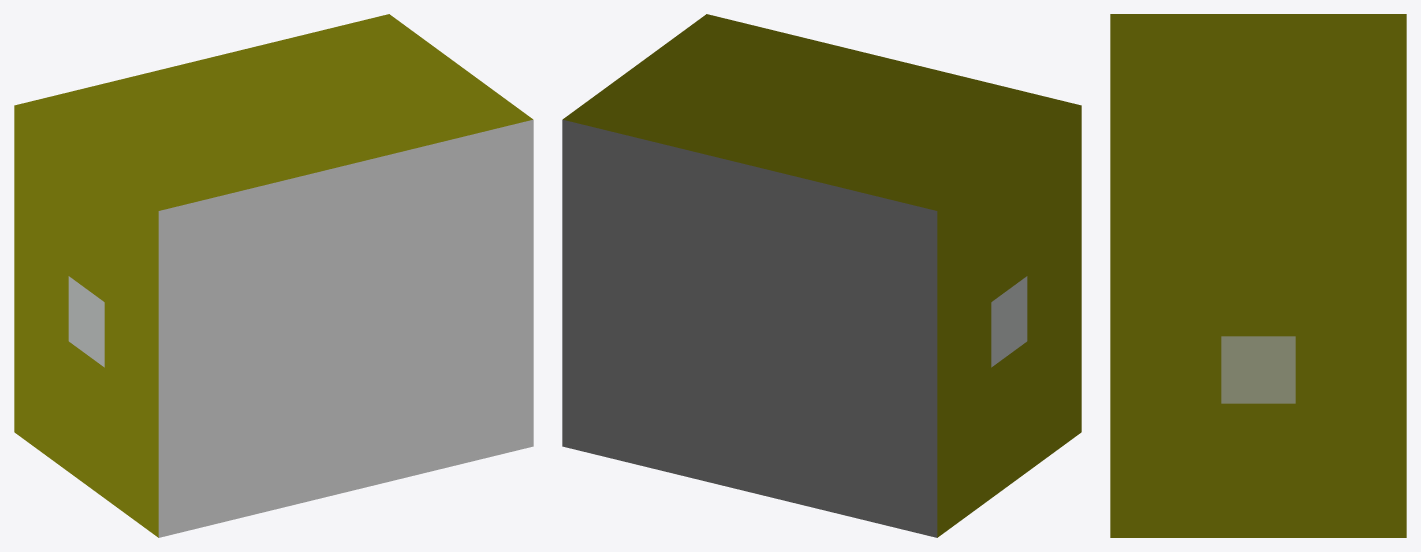
The model's file is idf.obj.
3 views of the same model, side by side, from view 1: azimuth 30°, elevation 25°; view 2: azimuth 150°, elevation 25°; view 3: azimuth 270°, elevation 25° (orthographic). The views are drawn at different scales.
Bounding box in the file's own units: 6 × 5 × 4.
